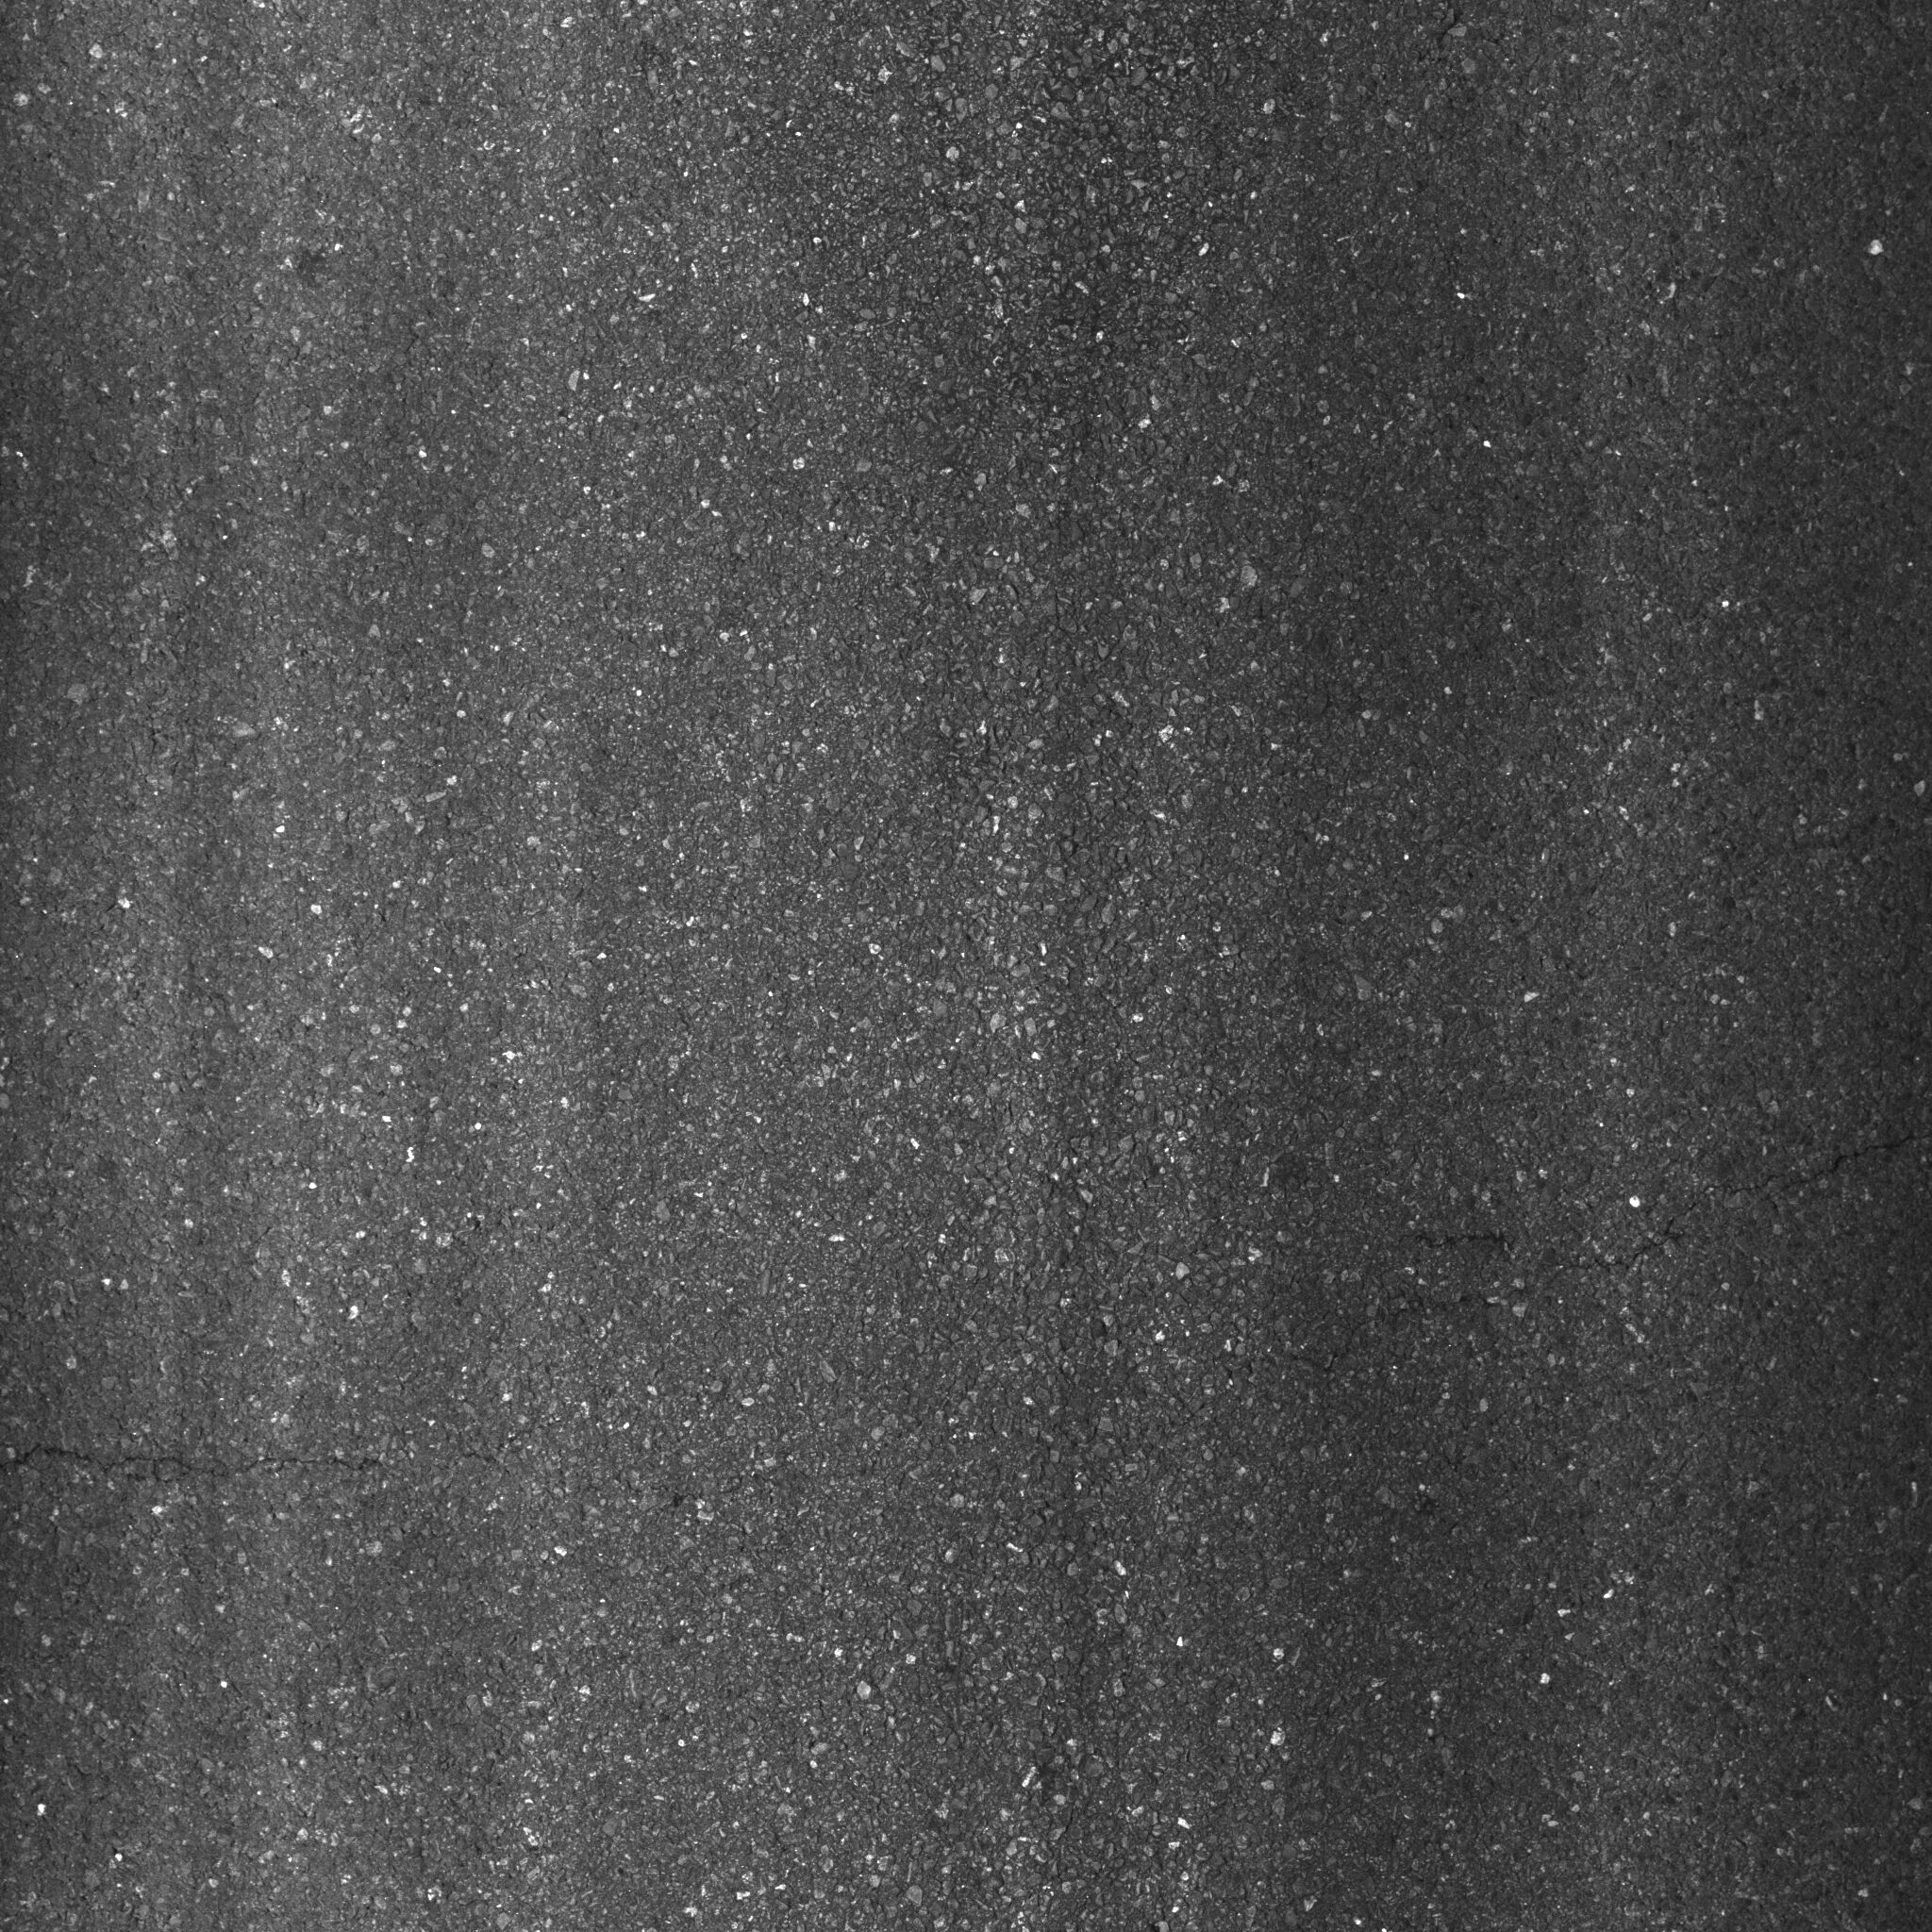transeverse: (1415, 1123, 1927, 1286), (4, 1424, 704, 1509)
